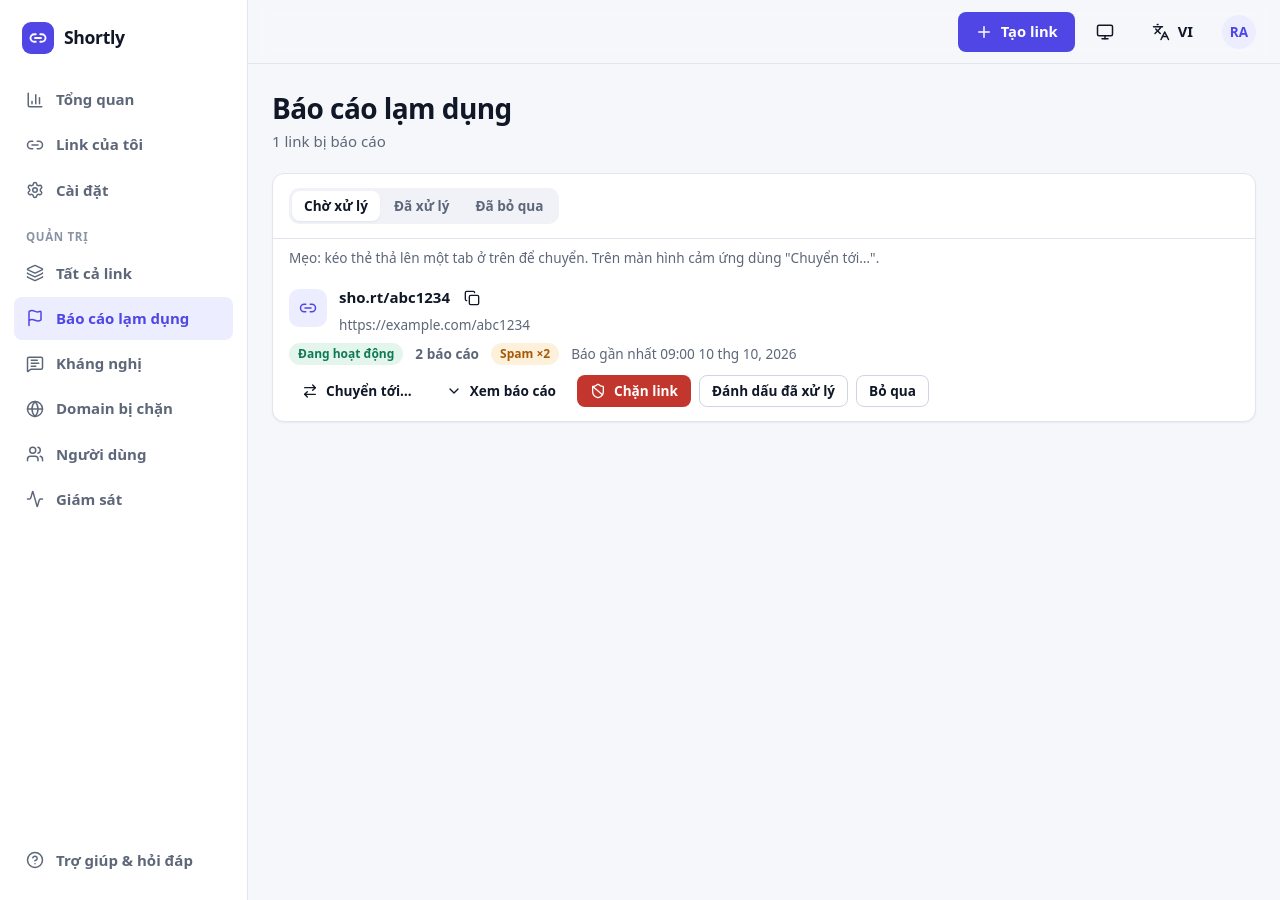
Test: quản trị: chuyển báo cáo giữa các tab › tab đã xử lý cũng có menu "Chuyển tới…" (nhưng vẫn không có nút Chặn / Đánh dấu / Bỏ qua)
Expected: the text "sho.rt/abc1234" is shown, x1=339 y1=286 x2=450 y2=310
Click the button "Đã xử lý" at (422, 206), box x1=382 y1=191 x2=461 y2=221
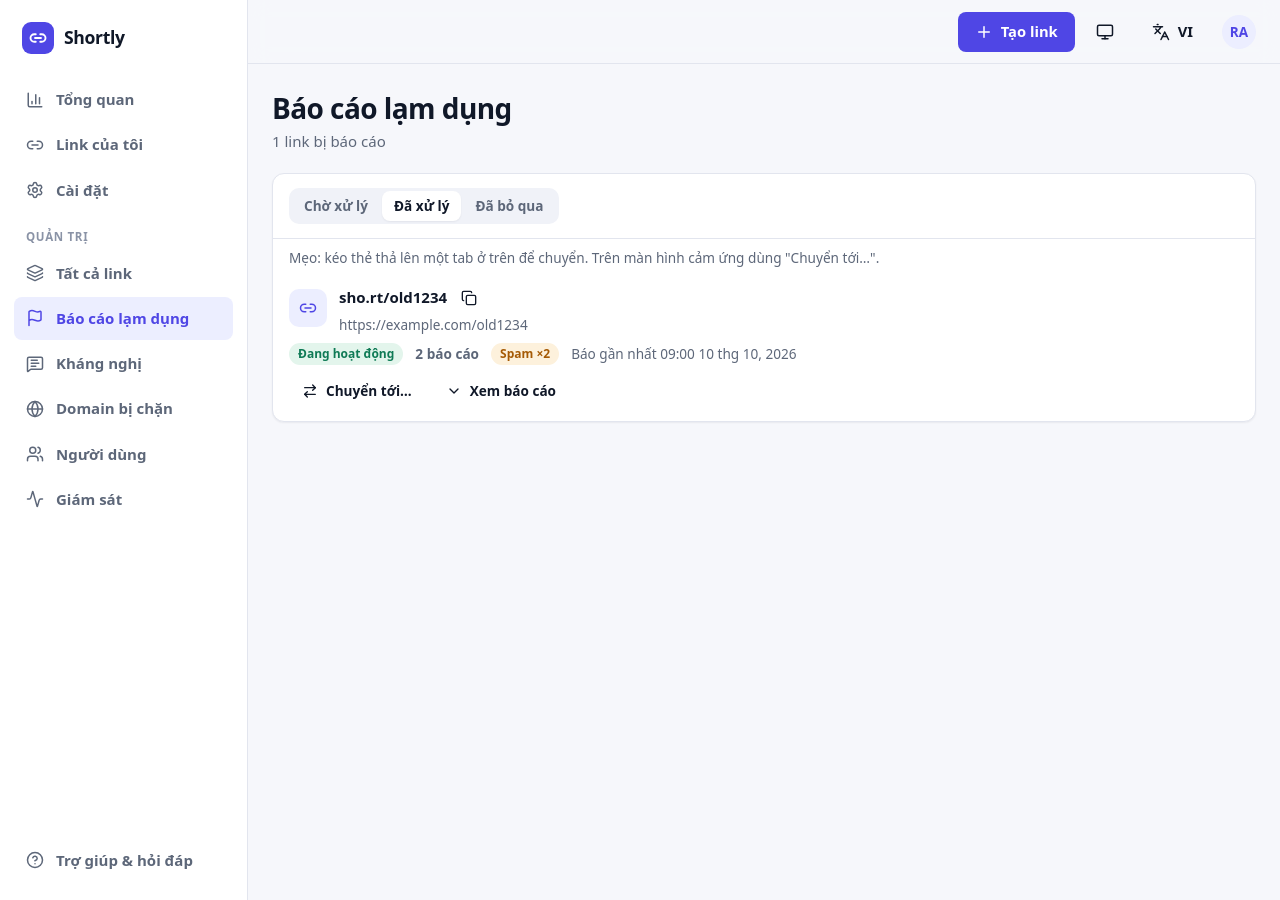
Expected: the text "sho.rt/old1234" is shown, x1=339 y1=286 x2=447 y2=310
Expected: the button "Chặn link" is gone
Click the button with aria-label "Chuyển tới… old1234" at (357, 391), box x1=289 y1=375 x2=425 y2=407
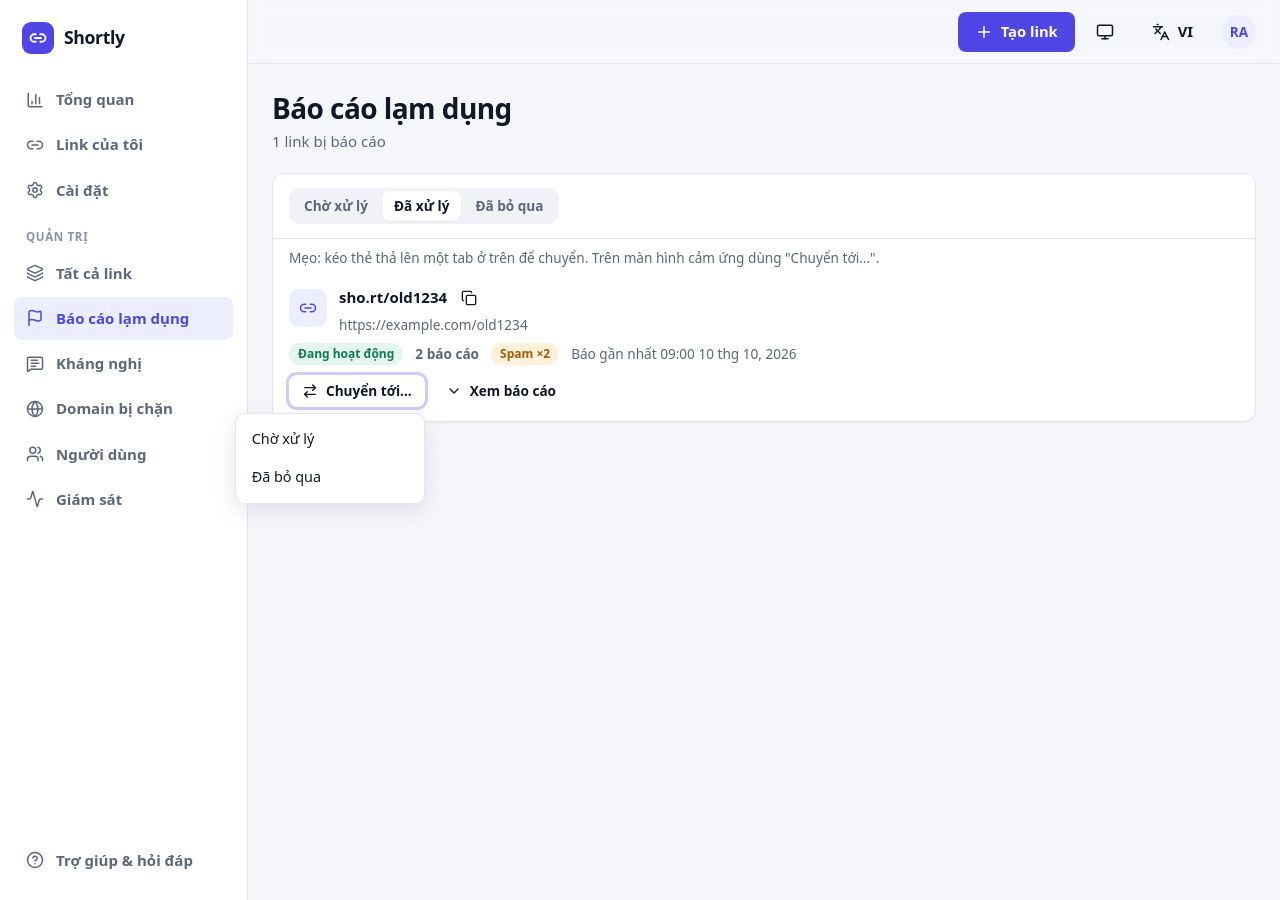
Expected: the menu item "Chờ xử lý" is shown, x1=242 y1=420 x2=418 y2=458
Expected: the menu item "Đã bỏ qua" is shown, x1=242 y1=458 x2=418 y2=497
